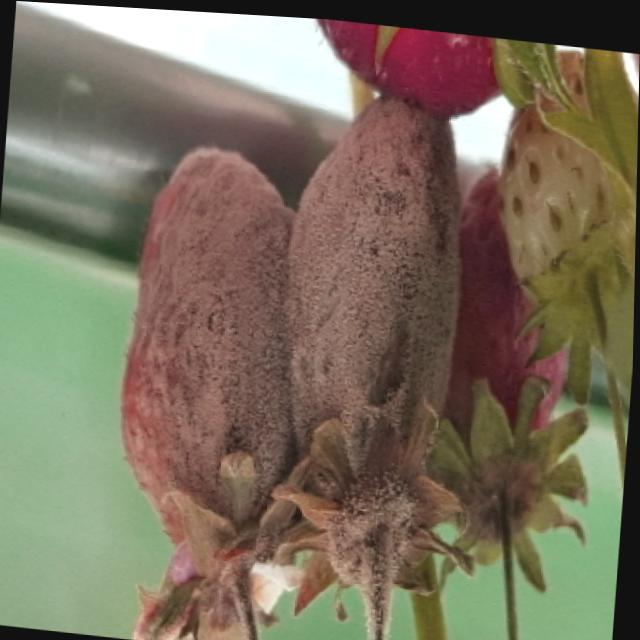Gray Mold: (272, 89, 479, 640), (120, 144, 319, 640)
